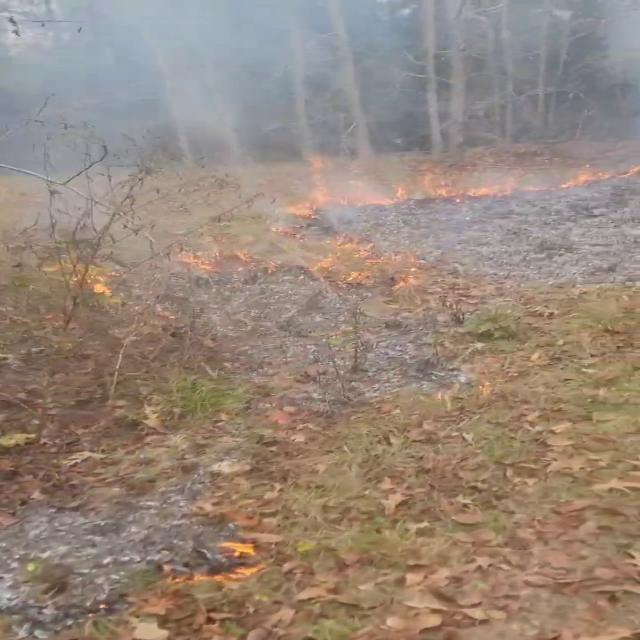Smoke: (67, 0, 623, 269)
